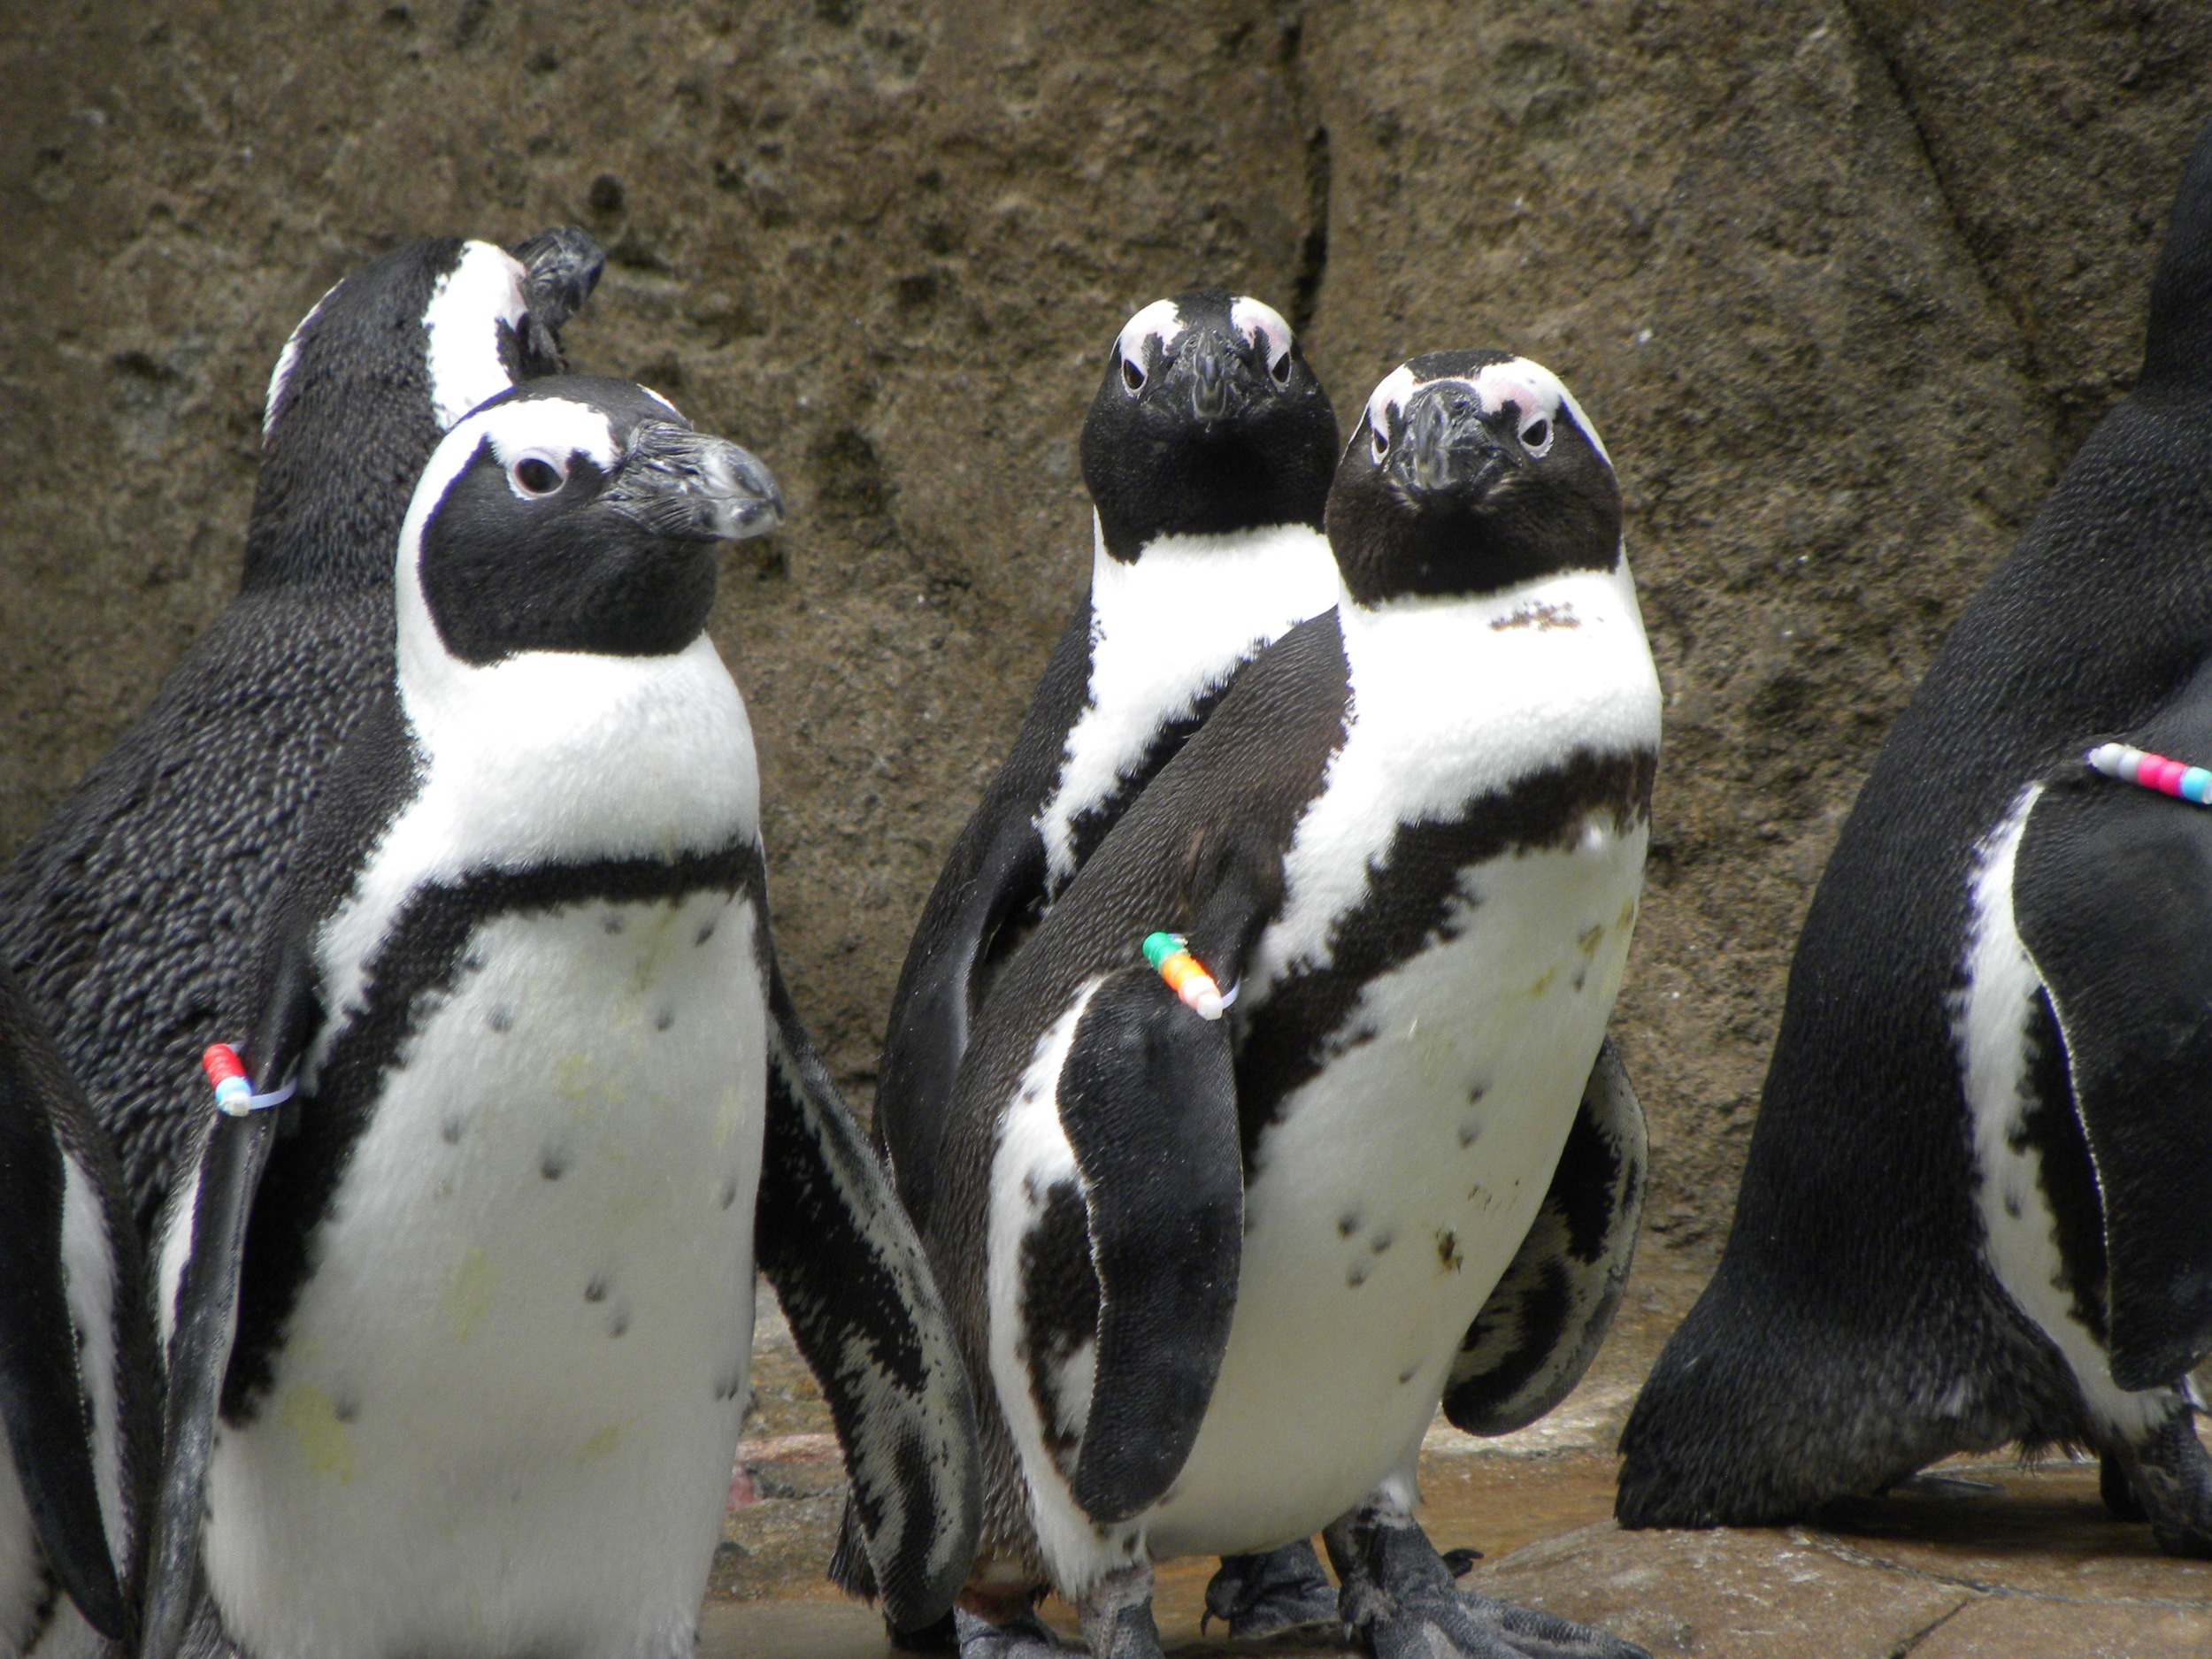penguin: (190, 359, 993, 1659), (890, 347, 1672, 1659)
